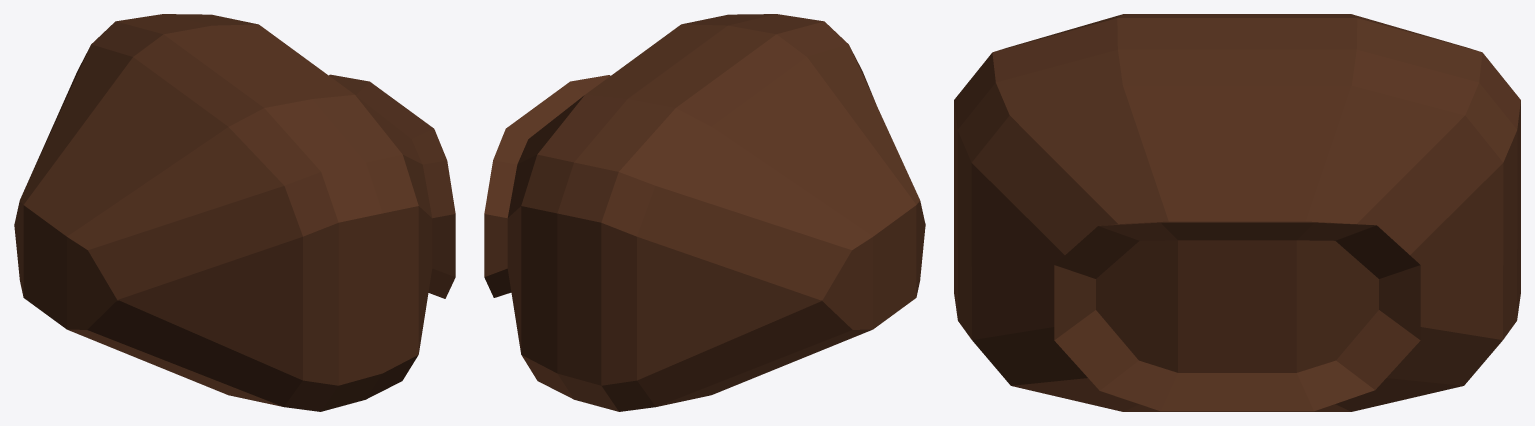
The model's file is Thorax.fbx.
3 renders of one model, left to right at view 1: azimuth 30°, elevation 25°; view 2: azimuth 150°, elevation 25°; view 3: azimuth 270°, elevation 25°, orthographic. The views are drawn at different scales.
Parts seen in each view (by area): view 1: Thorax; view 2: Thorax; view 3: Thorax.
Boxes of the visible parts, x1,y1,x2,y2 form: Thorax: [14, 14, 455, 411]; Thorax: [484, 14, 925, 411]; Thorax: [954, 14, 1520, 411].
Bounding box in the file's own units: 345 × 298 × 232.
